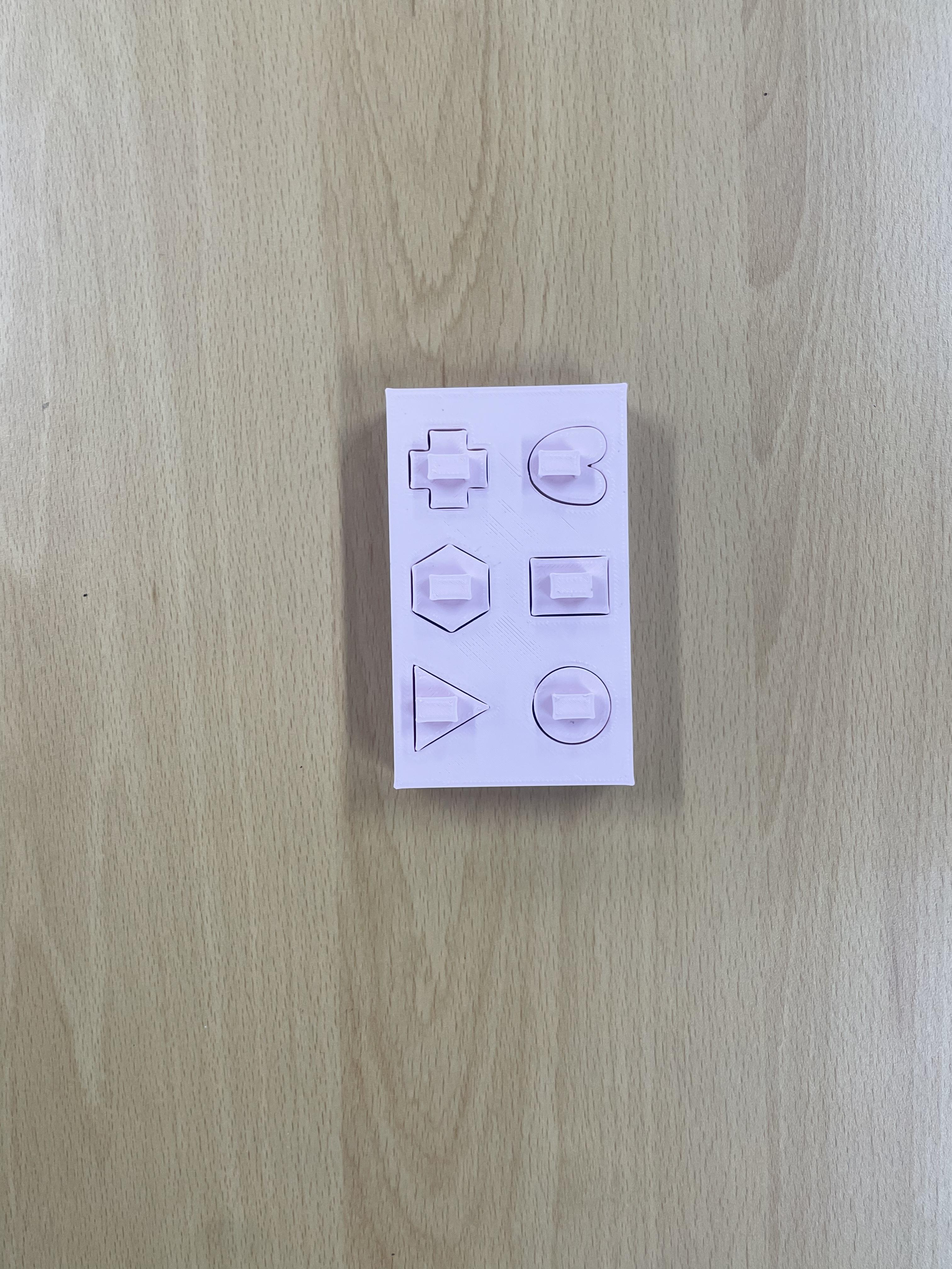solved: (365, 359, 677, 822)
